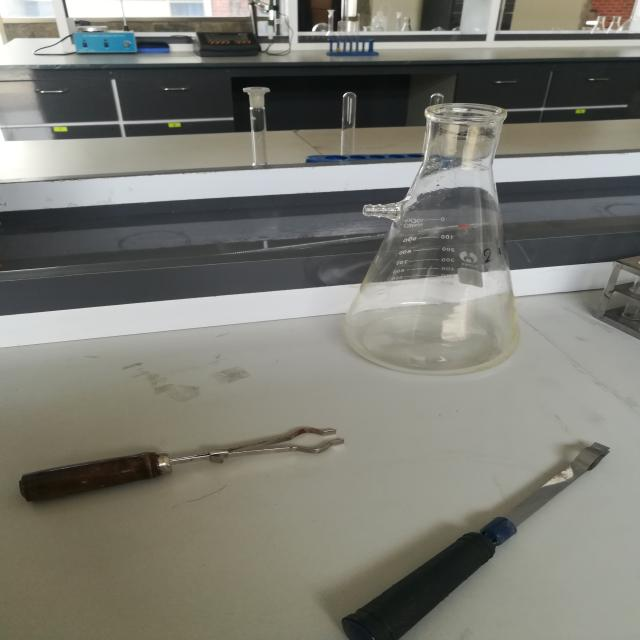Conical_Flask: (310, 87, 587, 399)
TestTube_Holder: (304, 424, 634, 640), (0, 392, 360, 531)
